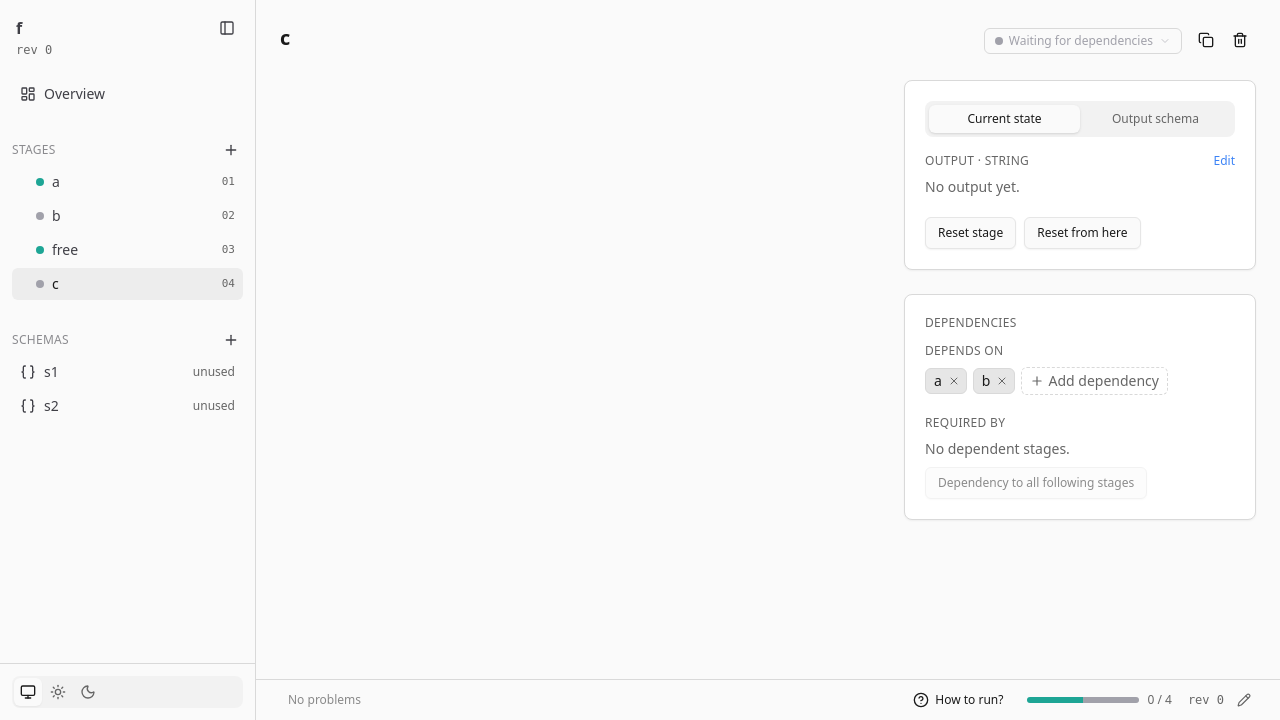
Scenario: stage list › delete_without_dependents_asks_then_deletes_and_selects_the_previous_stage
Click the button named "Delete stage": (1240, 40) top-left (1224, 24), bottom-right (1256, 56)
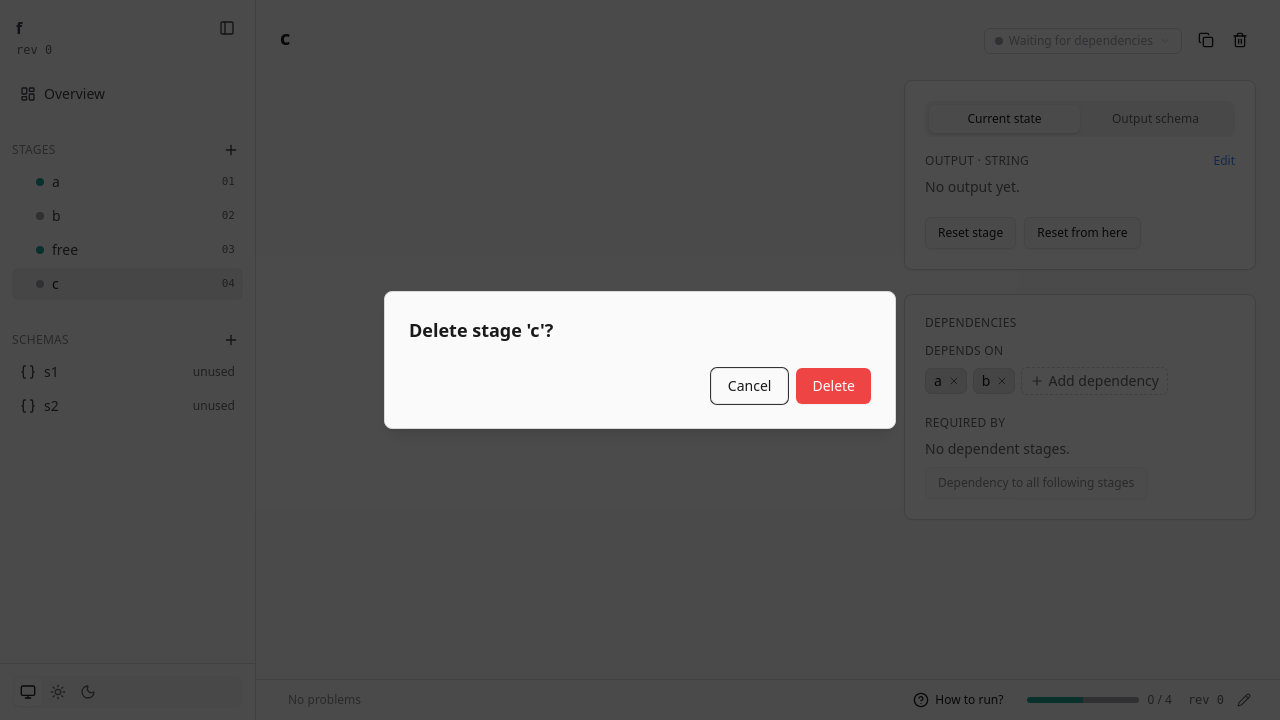
Check: the dialog shows "Delete stage 'c'?", box top-left (409, 318), bottom-right (553, 342)
Click the button "Delete": (834, 386) top-left (796, 368), bottom-right (871, 404)
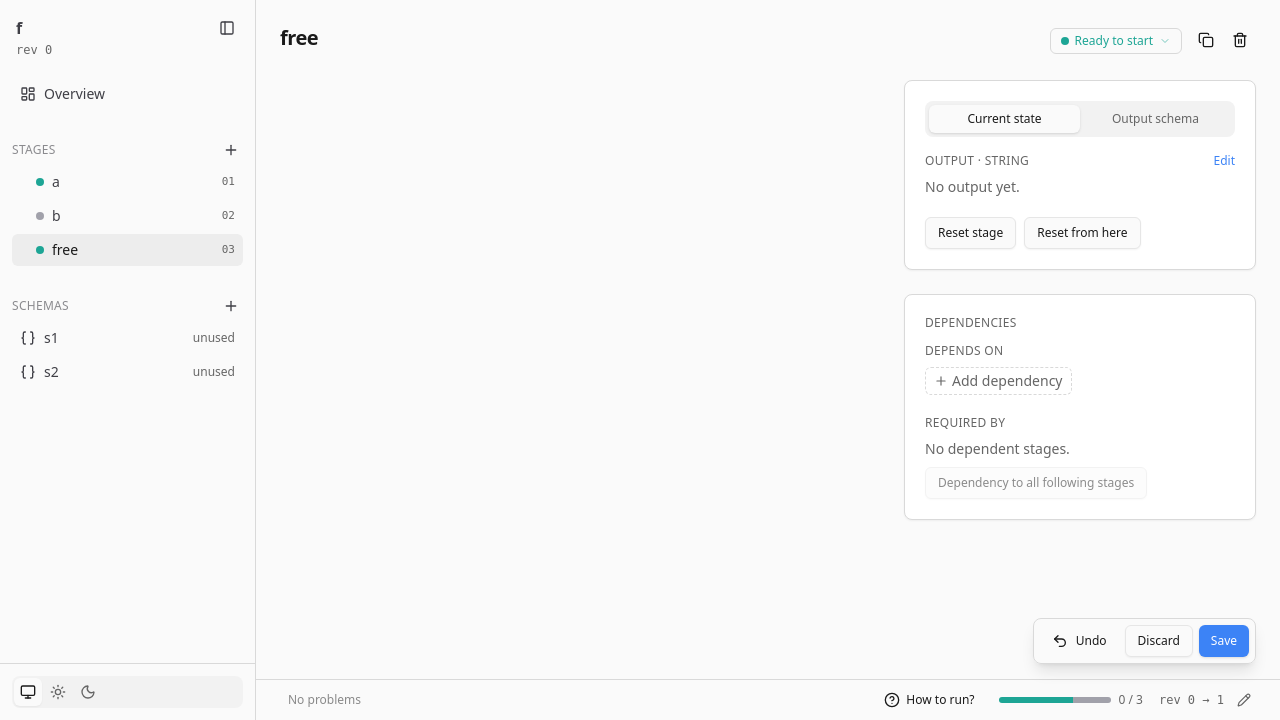
Check: the dialog is gone
